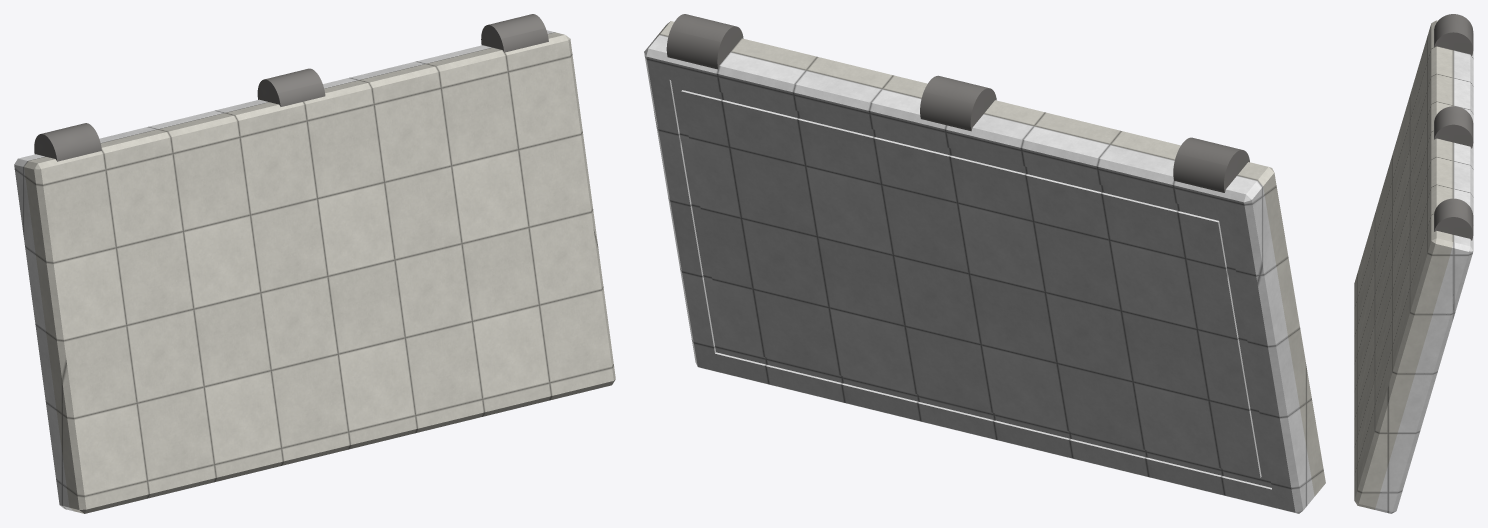
File: ax_aero_26_csbf_body_flap_mk2_defl_neg.glb
The picture shows the model from 3 angles, left to right: view 1: azimuth 30°, elevation 25°; view 2: azimuth 150°, elevation 25°; view 3: azimuth 270°, elevation 25°; orthographic projection. The views are drawn at different scales.
Parts seen in each view (by area): view 1: flap_top, hinge_fittings, flap_underside; view 2: flap_underside, flap_top, hinge_fittings; view 3: flap_top, flap_underside, hinge_fittings.
Part boxes in pixels (bbox=[...]): flap_top: bbox=[24, 32, 615, 513]; hinge_fittings: bbox=[34, 14, 548, 161]; flap_underside: bbox=[14, 30, 554, 511]; flap_underside: bbox=[644, 35, 1314, 513]; flap_top: bbox=[656, 21, 1325, 496]; hinge_fittings: bbox=[666, 14, 1249, 192]; flap_top: bbox=[1354, 20, 1453, 509]; flap_underside: bbox=[1374, 33, 1473, 513]; hinge_fittings: bbox=[1434, 14, 1473, 240].
Bounding box in the file's own units: 1.2 × 0.7315 × 0.2726.
Materials: 3 (3 with a texture image).
